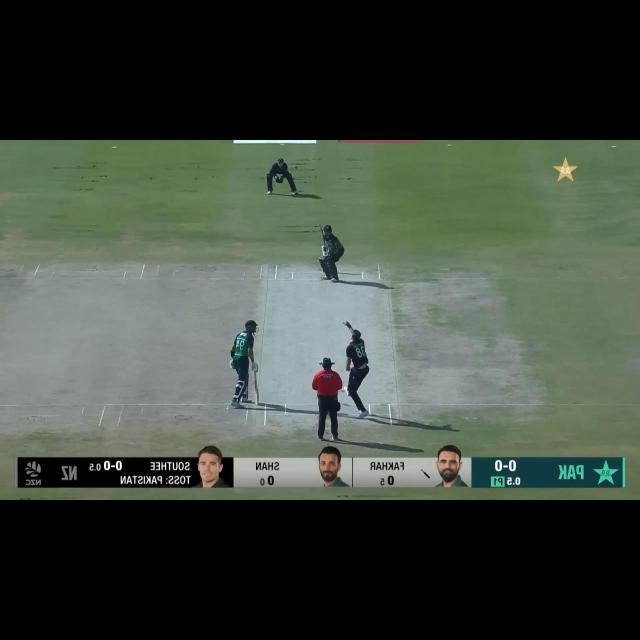bat: (252, 372, 259, 404), (319, 223, 325, 247)
toe: (253, 394, 260, 406), (317, 222, 322, 229)
